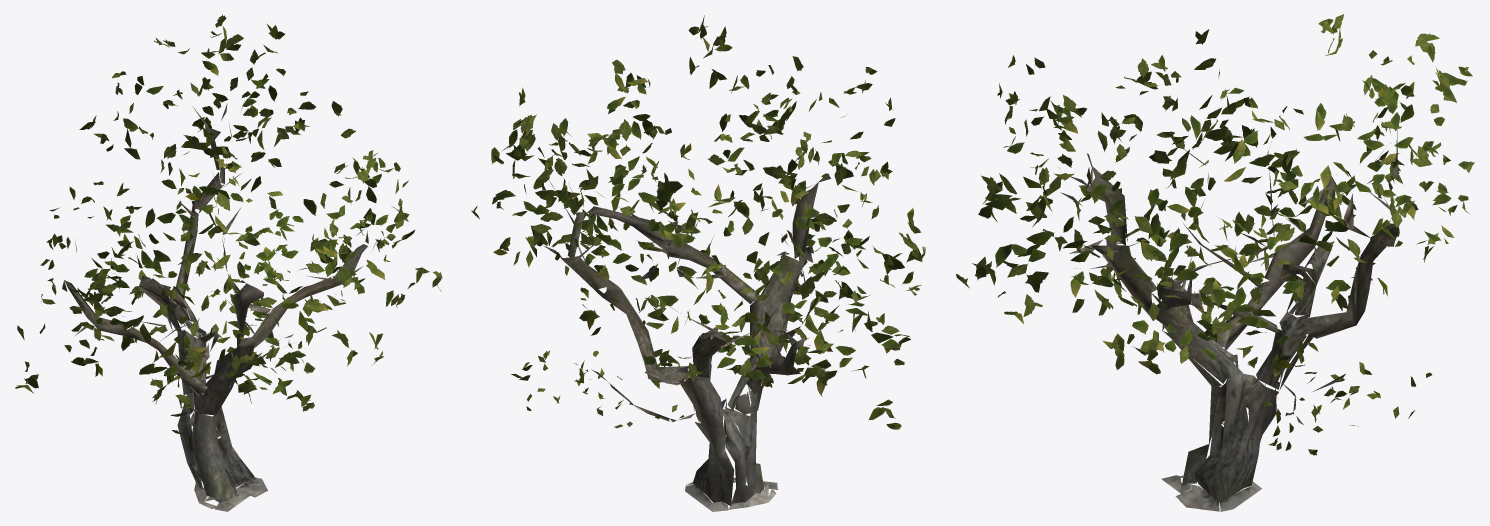
Rendered from veg-tree-shade-a-lod1-f0b21e414bd8.glb.
3 views of the same model, side by side, from view 1: azimuth 30°, elevation 25°; view 2: azimuth 150°, elevation 25°; view 3: azimuth 270°, elevation 25° (orthographic). The views are drawn at different scales.
Visible parts, largest first — view 1: veg-tree-shade-a_lod1; view 2: veg-tree-shade-a_lod1; view 3: veg-tree-shade-a_lod1.
Boxes of the visible parts, <box> form: veg-tree-shade-a_lod1: <box>15,14,442,511</box>; veg-tree-shade-a_lod1: <box>471,15,925,511</box>; veg-tree-shade-a_lod1: <box>956,14,1474,511</box>.
Size of the model in its own units: 6.34 by 6.8 by 6.3.
3 materials, 3 textured.
